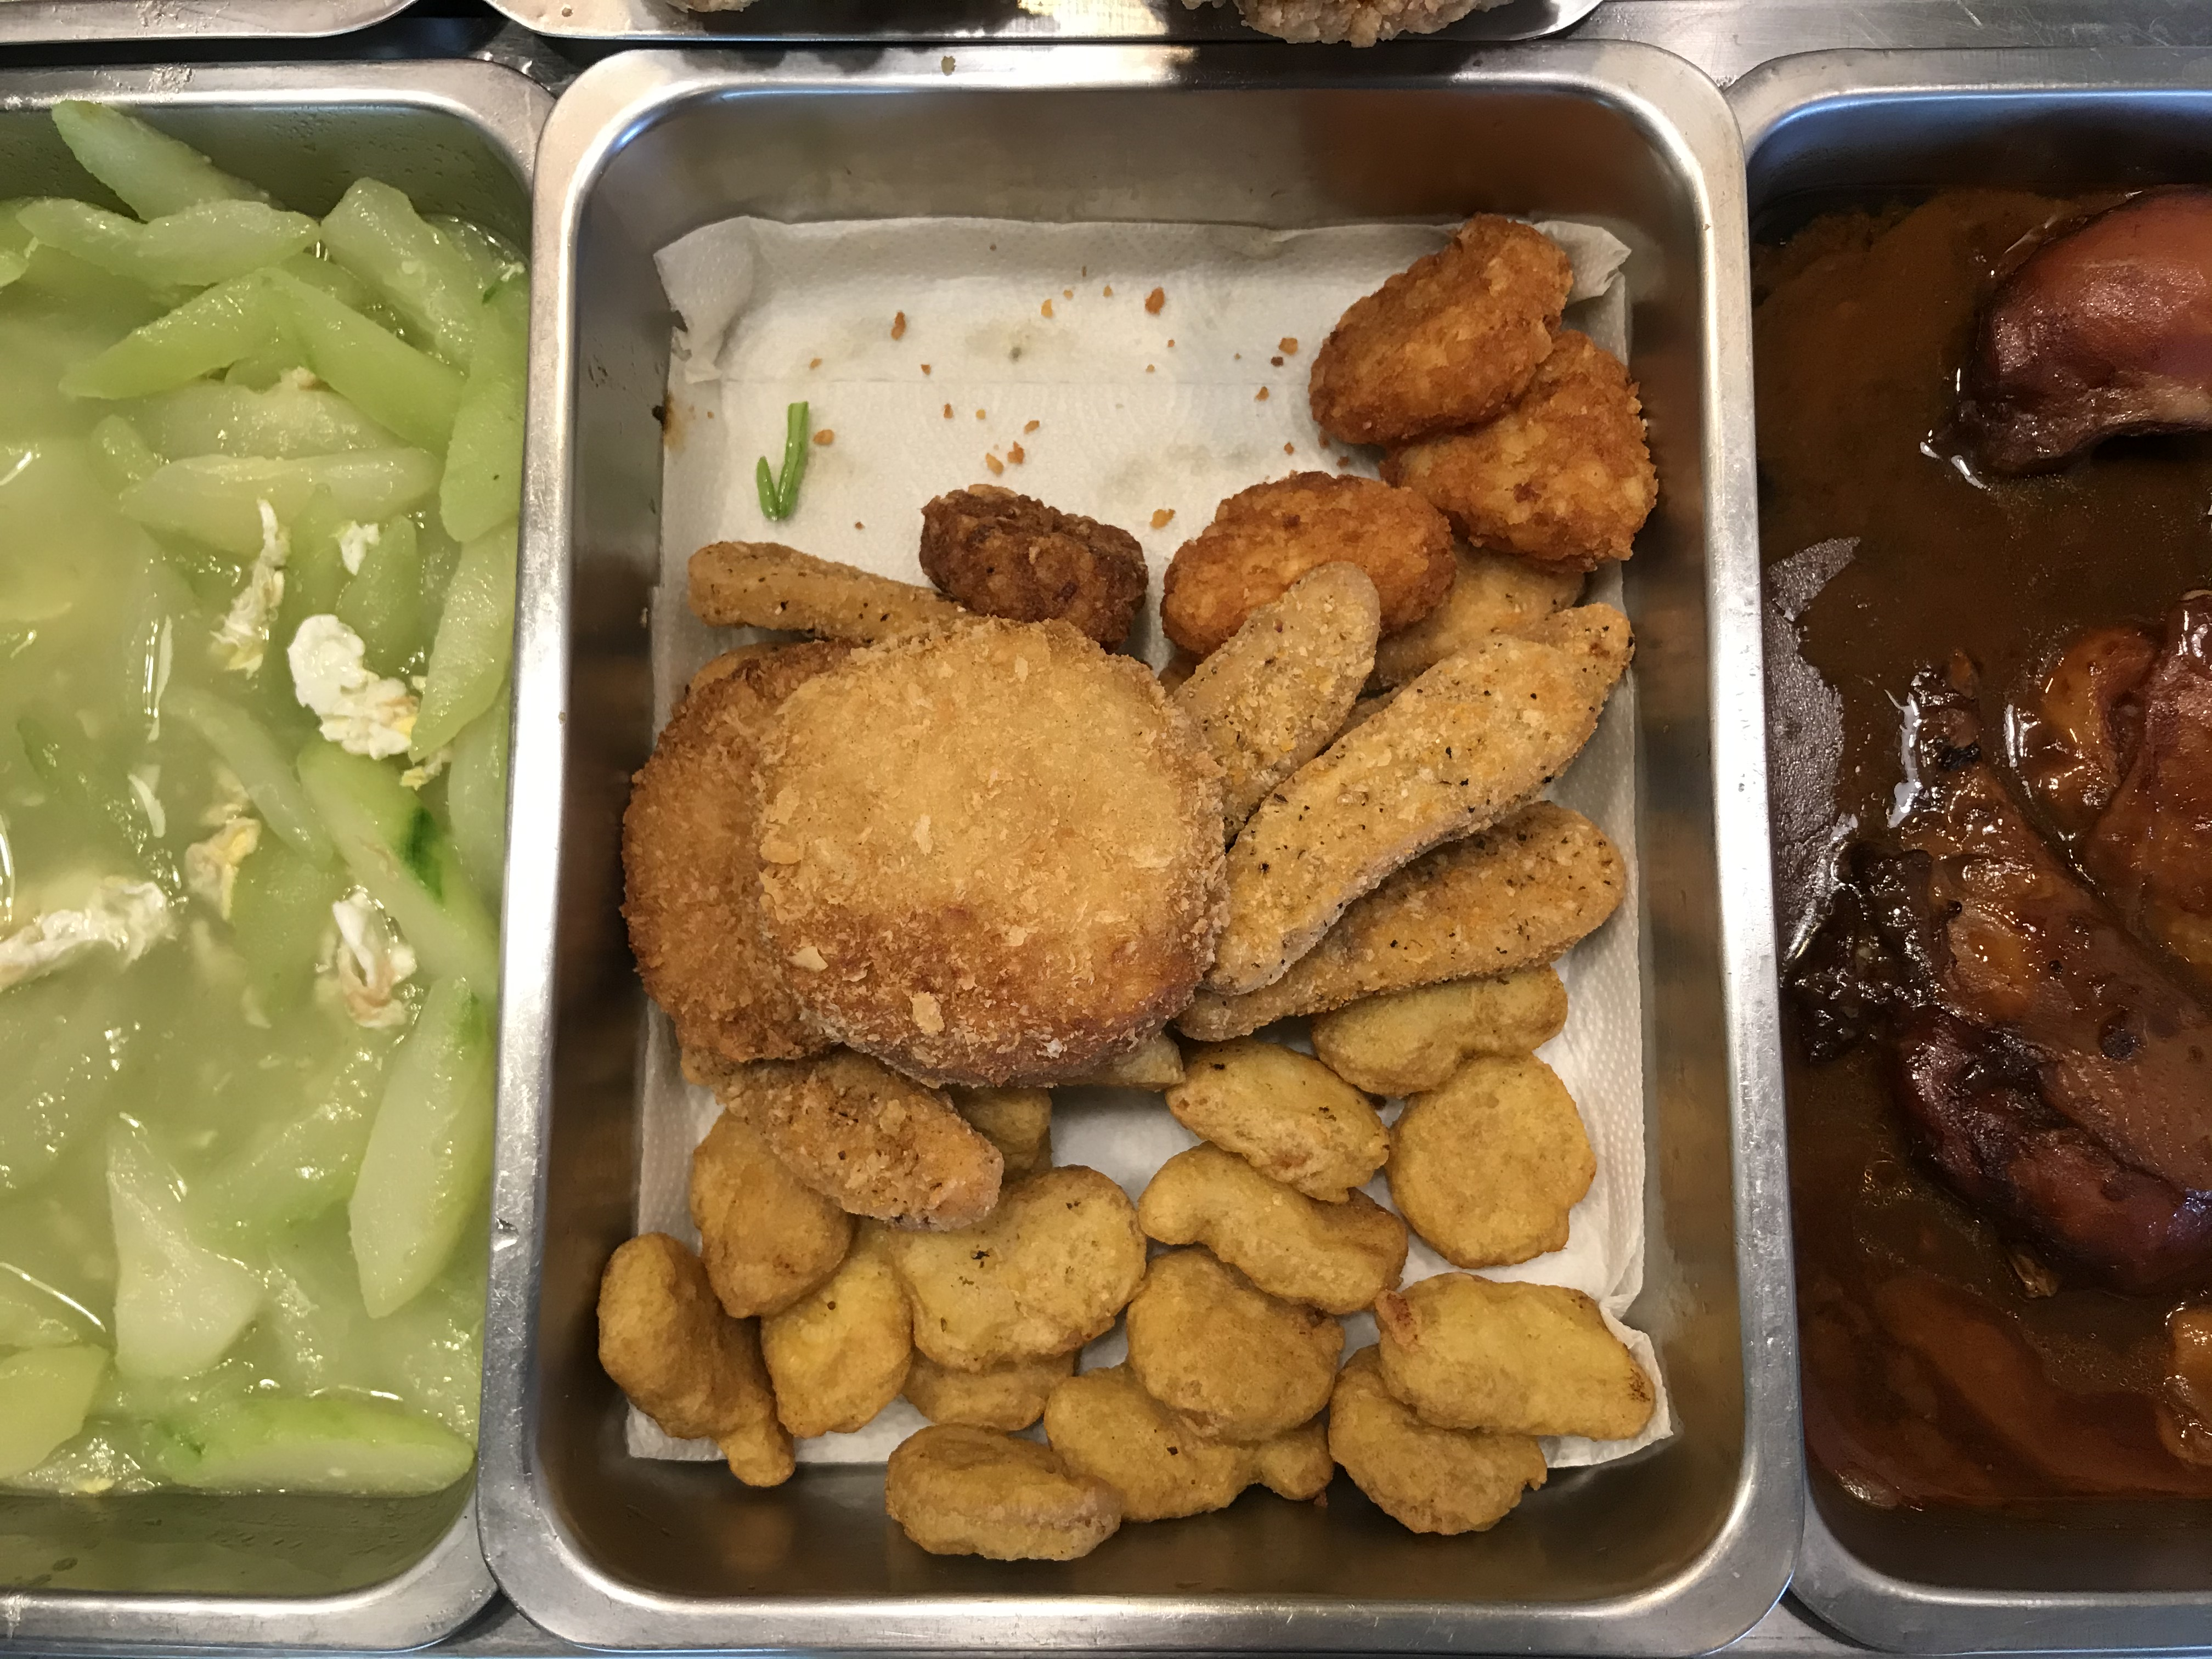chicken_nuggets: (615, 1068, 1601, 1546)
triangle_hash_brown: (1162, 232, 1660, 655)
